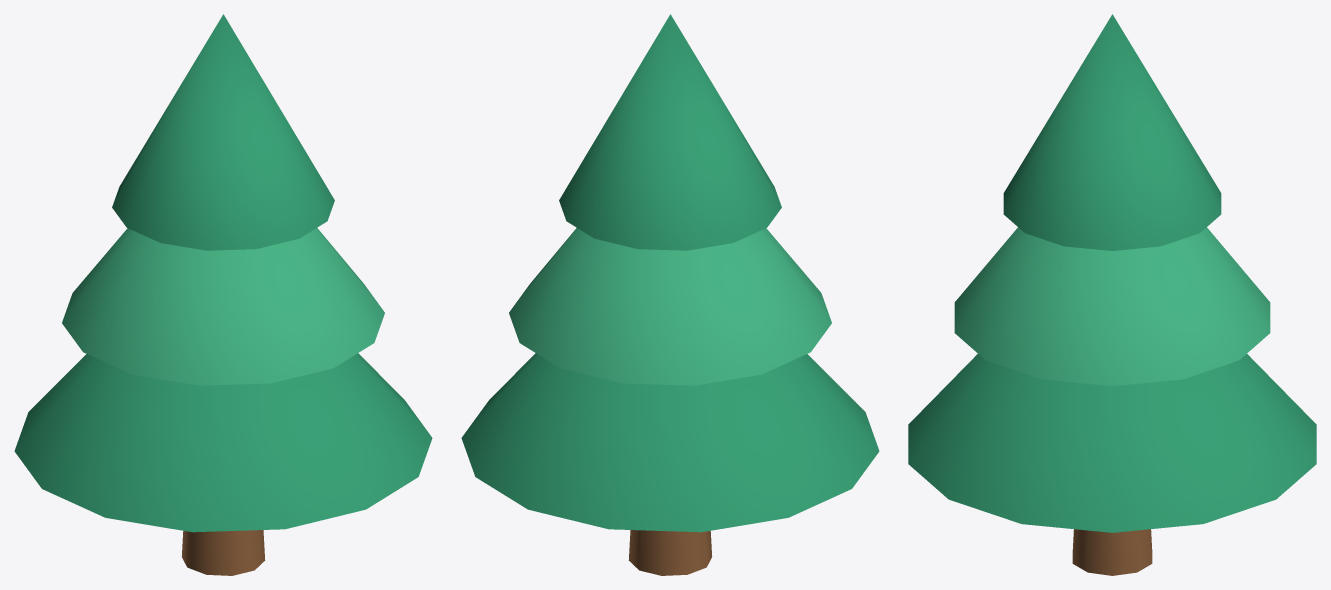
Rendered from Tree_Pine.obj.
3 views of the same model, side by side, from view 1: azimuth 30°, elevation 25°; view 2: azimuth 150°, elevation 25°; view 3: azimuth 270°, elevation 25° (orthographic).
Parts seen in each view (by area): view 1: Tree_Pine; view 2: Tree_Pine; view 3: Tree_Pine.
Boxes of the visible parts, x1,y1,x2,y2 form: Tree_Pine: (14, 14, 432, 575); Tree_Pine: (461, 14, 879, 575); Tree_Pine: (908, 14, 1316, 575).
Bounding box in the file's own units: 1.5 × 2.15 × 1.46.
1 material, 1 textured.
